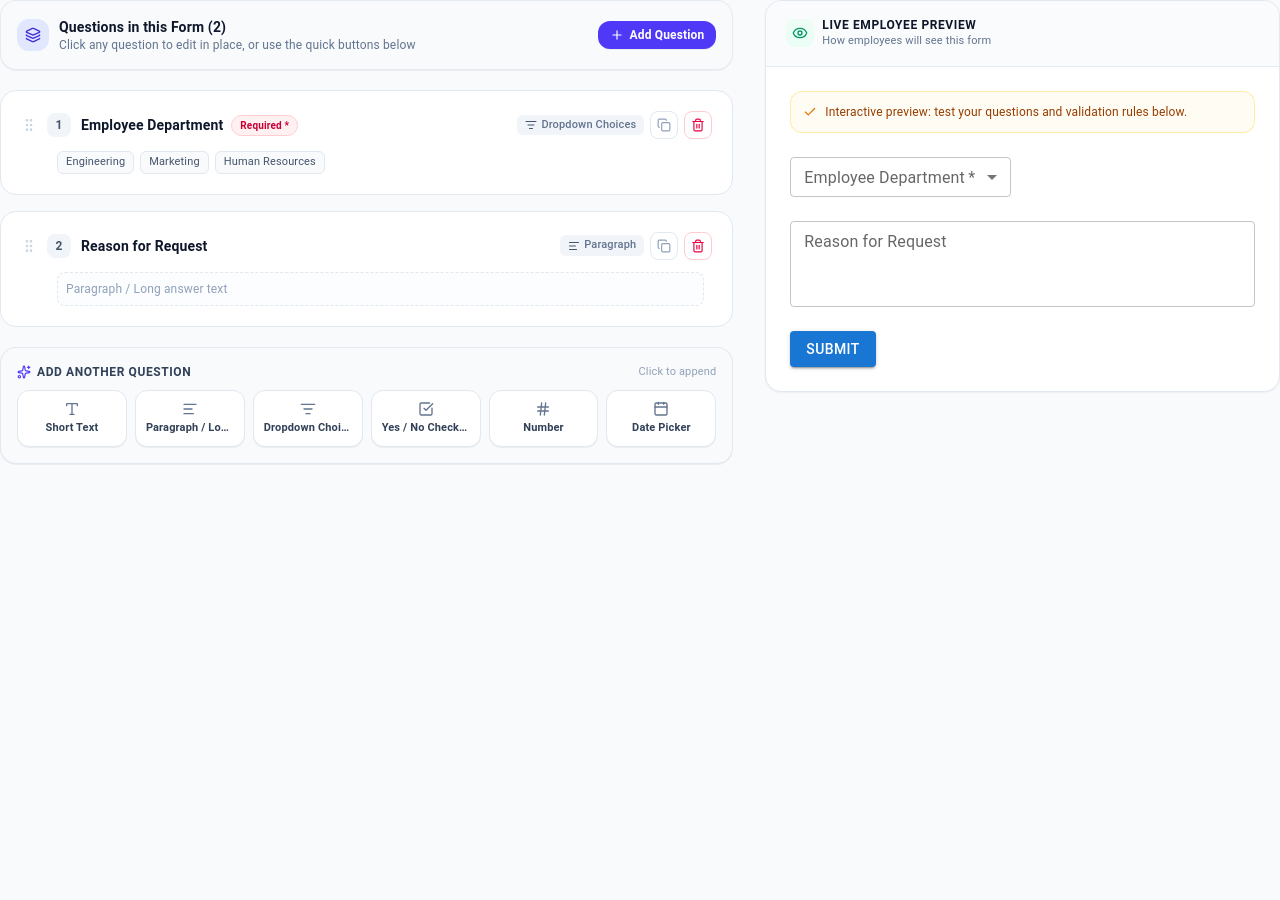
it: SchemaBuilder Component › allows changing the answer type from the inline card dropdown
Select the first question (Employee Department)
Step 1. Click the text "Employee Department" → (152, 125), box [81,115,223,135]
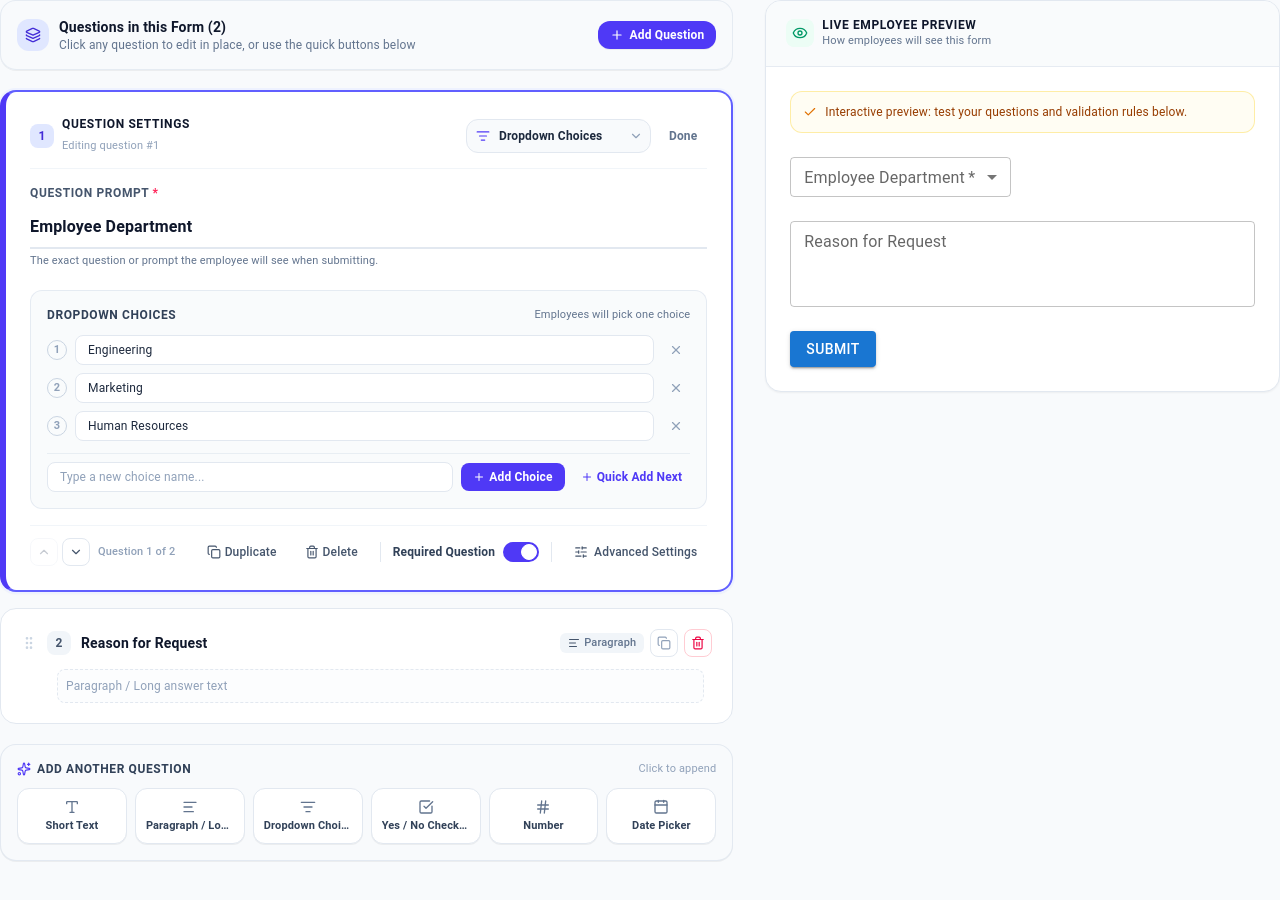
Now the dropdown named "Answer Type" shows "Dropdown Choices"
Change to date picker
Step 2. Select "Date Picker" in the dropdown named "Answer Type" → (558, 136), box [466,119,651,153]
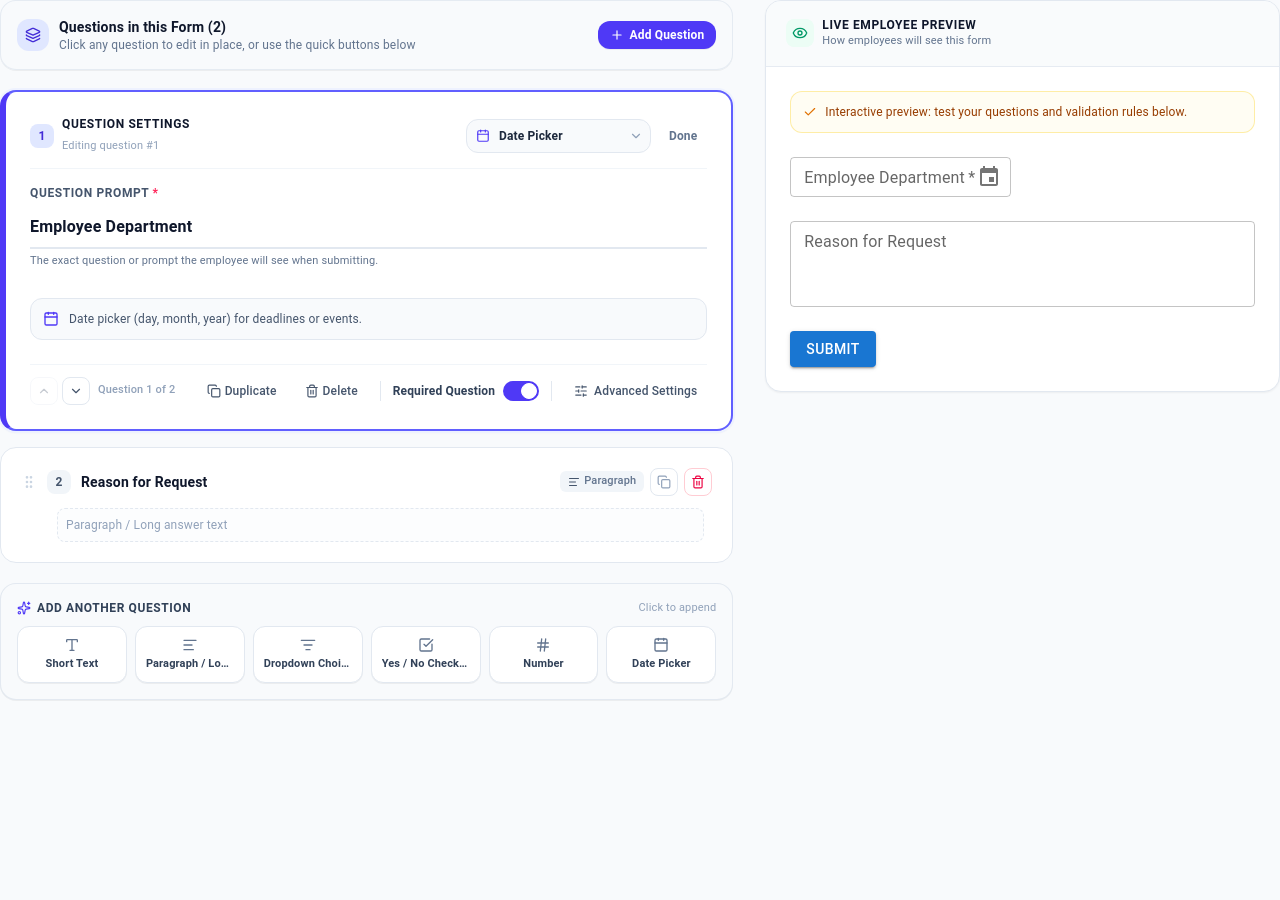
Now the text "Date picker (day, month, year) for deadlines or events." is shown, box [69,310,362,326]
